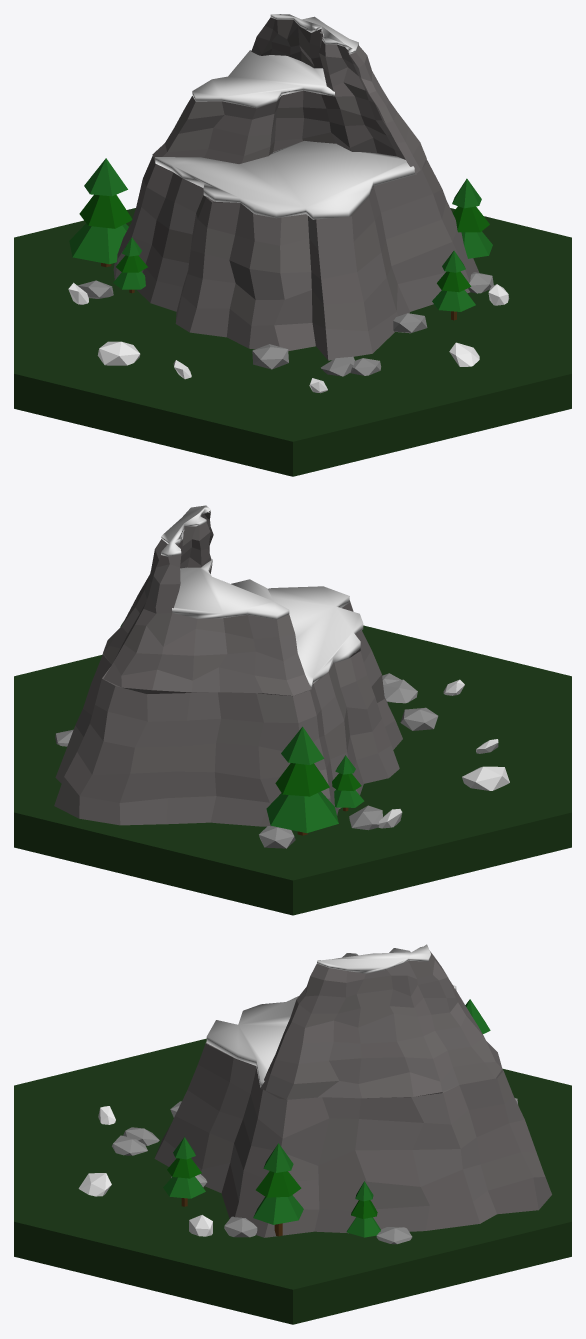
Rendered from mountain_keystone_sprint3.glb.
3 views of the same model, one above another, from view 1: azimuth 30°, elevation 25°; view 2: azimuth 150°, elevation 25°; view 3: azimuth 270°, elevation 25° (orthographic).
Visible parts, largest first — view 1: Cylinder, Plane, Plane.001, Plane.002, Low Poly Mountain Pine, Low Poly Mountain Pine.001, Plane.003, Low Poly Mountain Pine.002, Extra Low Poly Mountain Rock, Low Poly Mountain Pine.007, Icosphere.007, Low Poly Mountain Pine.009 (+1 smaller); view 2: Cylinder, Plane, Plane.001, Plane.002, Low Poly Mountain Pine, Low Poly Mountain Pine.001, Plane.003, Low Poly Mountain Pine.002, Extra Low Poly Mountain Rock, Icosphere.007, Icosphere, Icosphere.006 (+1 smaller); view 3: Plane, Cylinder, Plane.001, Plane.003, Low Poly Mountain Pine.006, Low Poly Mountain Pine.007, Low Poly Mountain Pine.009, Extra Low Poly Mountain Rock.002, Icosphere.003, Low Poly Mountain Pine.008, Icosphere.005, Low Poly Mountain Pine.010 (+2 smaller).
Boxes of the visible parts, x1,y1,x2,y2 form: Cylinder: (14, 208, 571, 476); Plane: (113, 17, 479, 360); Plane.001: (155, 141, 414, 219); Plane.002: (192, 50, 335, 108); Low Poly Mountain Pine: (69, 223, 128, 264); Low Poly Mountain Pine.001: (79, 194, 132, 228); Plane.003: (270, 14, 358, 54); Low Poly Mountain Pine.002: (84, 158, 127, 196); Extra Low Poly Mountain Rock: (97, 341, 140, 365); Low Poly Mountain Pine.007: (452, 206, 489, 232); Icosphere.007: (252, 344, 288, 369); Low Poly Mountain Pine.009: (432, 290, 475, 311); Cylinder: (14, 625, 571, 915); Plane: (54, 512, 402, 826); Plane.001: (268, 586, 363, 688); Plane.002: (172, 559, 289, 619); Low Poly Mountain Pine: (266, 791, 338, 833); Low Poly Mountain Pine.001: (275, 763, 329, 796); Plane.003: (161, 505, 210, 556); Low Poly Mountain Pine.002: (281, 726, 324, 764); Extra Low Poly Mountain Rock: (462, 766, 509, 790); Icosphere.007: (400, 707, 438, 730); Icosphere: (259, 826, 295, 848); Icosphere.006: (383, 679, 417, 703); Plane: (154, 951, 551, 1237); Cylinder: (14, 1038, 571, 1324); Plane.001: (206, 996, 298, 1087); Plane.003: (317, 944, 430, 973); Low Poly Mountain Pine.006: (253, 1195, 303, 1224); Low Poly Mountain Pine.007: (256, 1171, 301, 1197); Low Poly Mountain Pine.009: (163, 1176, 205, 1198); Extra Low Poly Mountain Rock.002: (78, 1173, 111, 1196); Icosphere.003: (224, 1216, 257, 1237); Low Poly Mountain Pine.008: (263, 1143, 293, 1172); Icosphere.005: (112, 1135, 147, 1155); Low Poly Mountain Pine.010: (167, 1158, 201, 1178).
Size of the model in its own units: 5 by 2.3 by 4.33.
